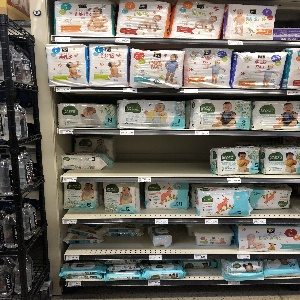void: (109, 133, 211, 175)
